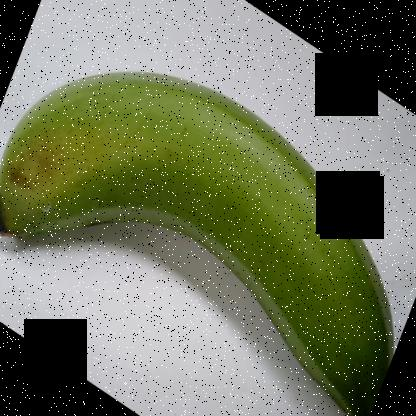freshunripe: (1, 58, 412, 415)
